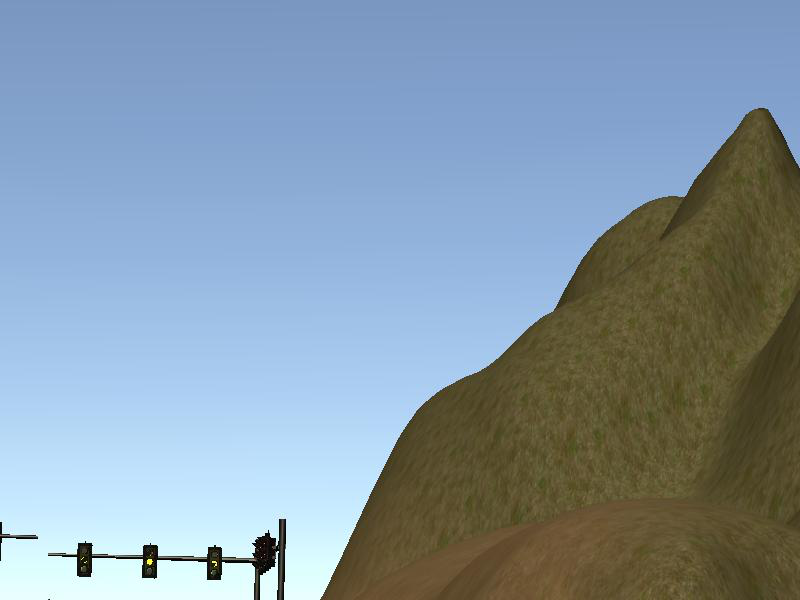yellow: (77, 541, 94, 576), (207, 546, 223, 581), (143, 544, 157, 579)
